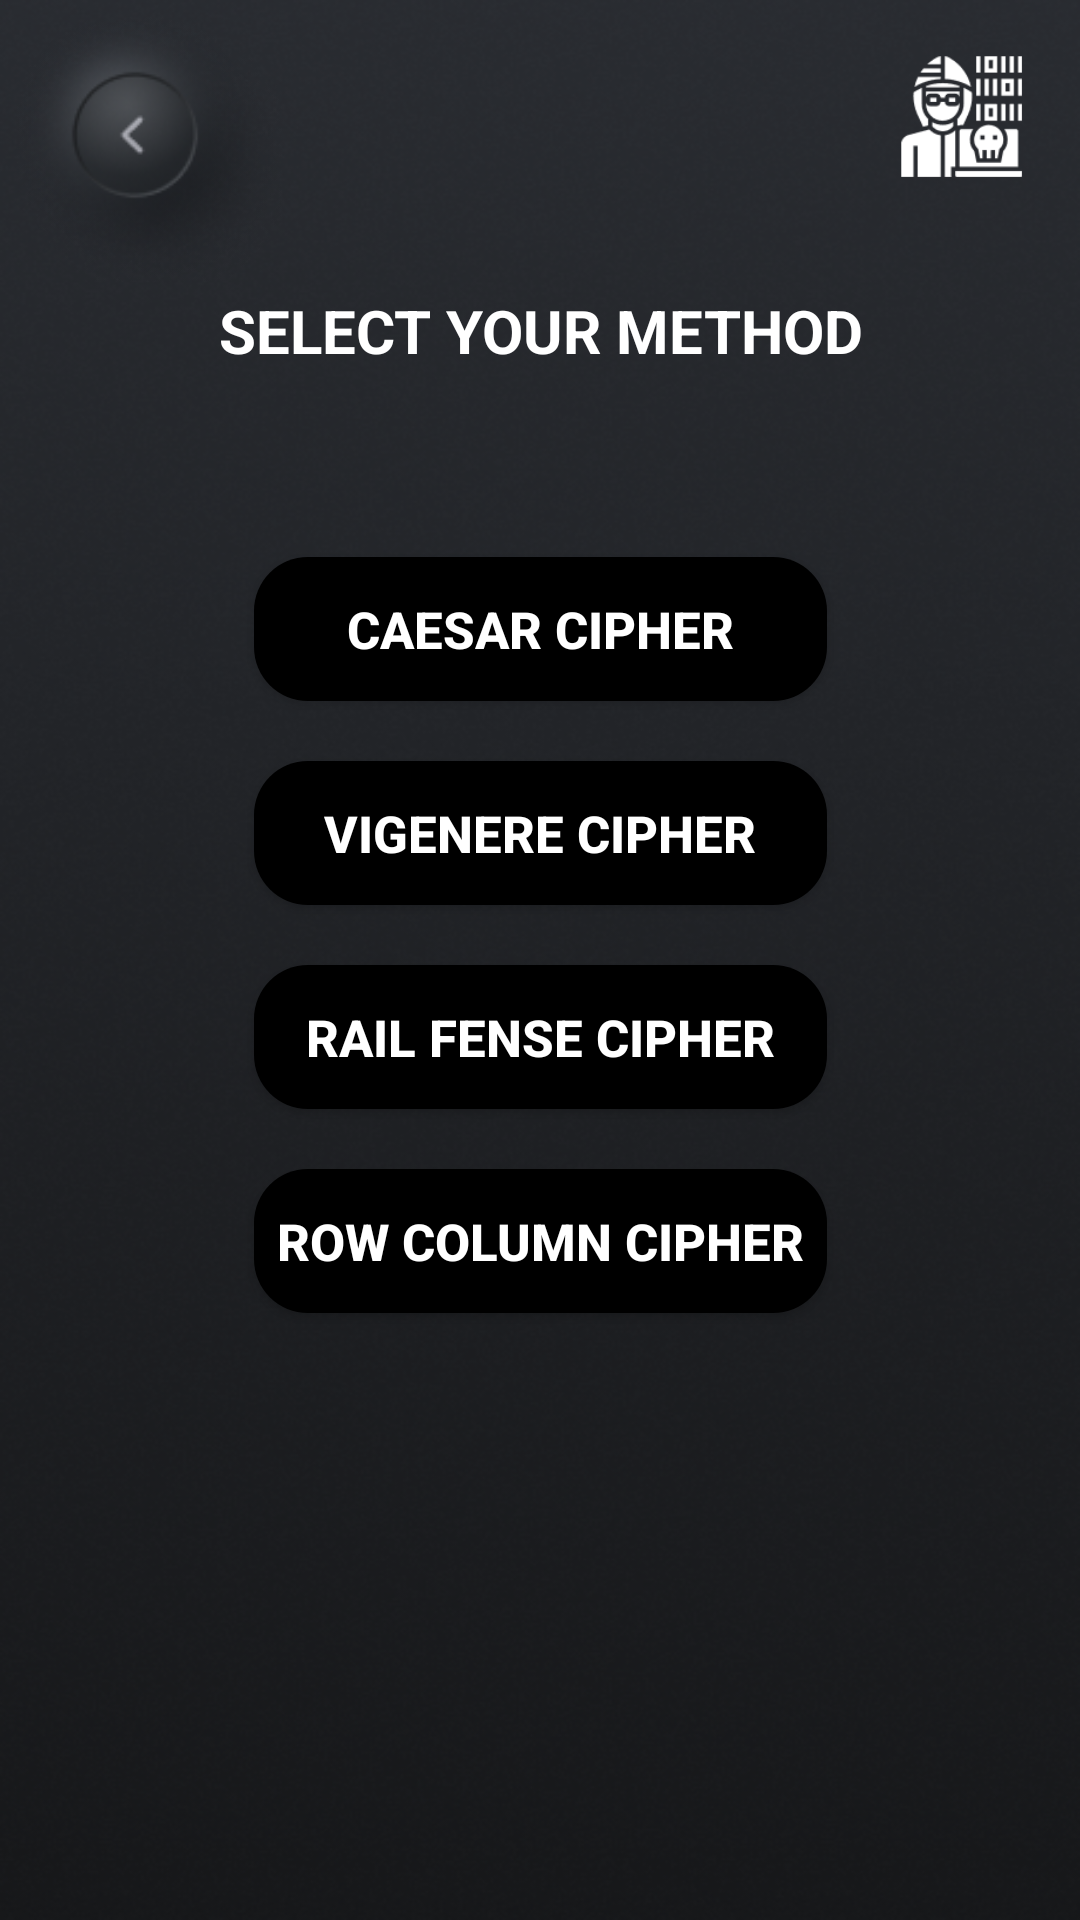

Icons on this 1080*1920 Android screen, each with the point to tap as [x,y]:
reversebtn: [137,131]
